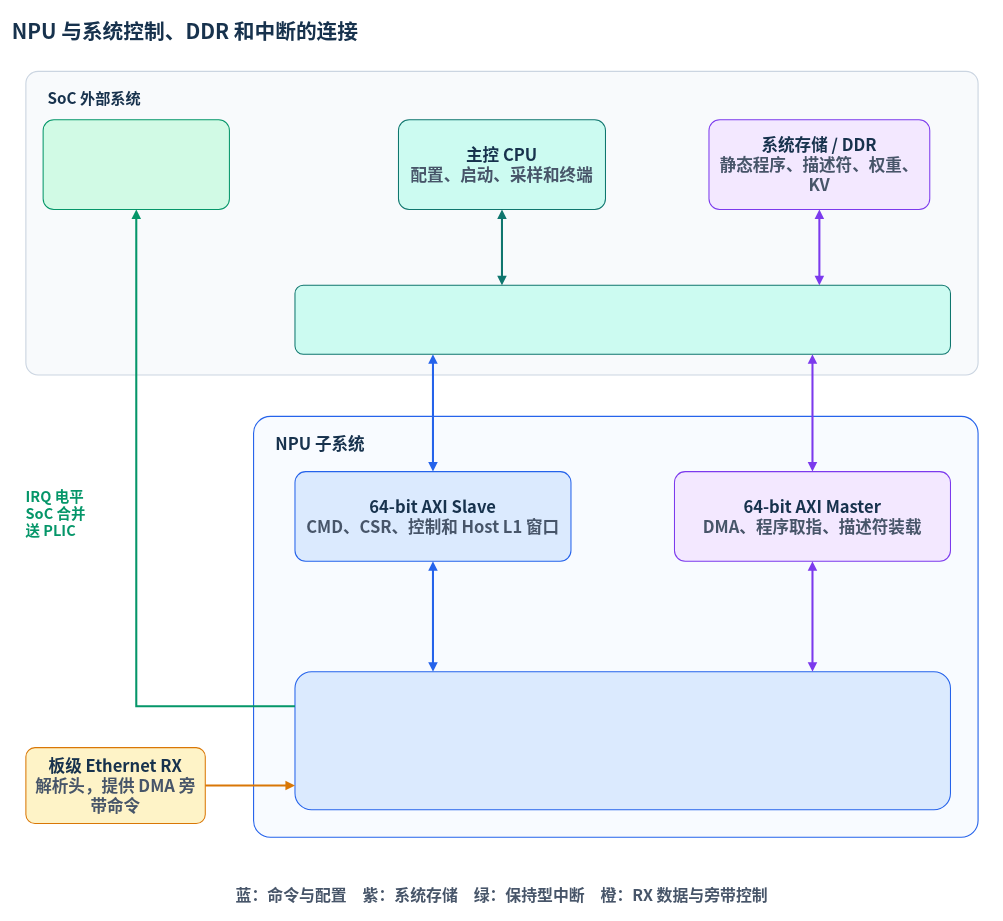
The diagram is 1003 pixels wide and 921 high, and some of its shapes have lost their labels. The shapes that lost their labels are listed below. From the top down, each one's centre as x and y in pixels, then its label:
[136,164]: PLIC / CPU 中断处理 读取 NPU 状态，软件清除保持位
[622,319]: SoC AXI Fabric CPU 访问 NPU Slave；NPU Master 访问系统存储
[622,740]: NPU Core CFE、取指与描述符、调度和执行集群 四物理 PE；共享 Complex FMA；1 MiB L1 当前默认 4 bank；各配置能力分别检查
